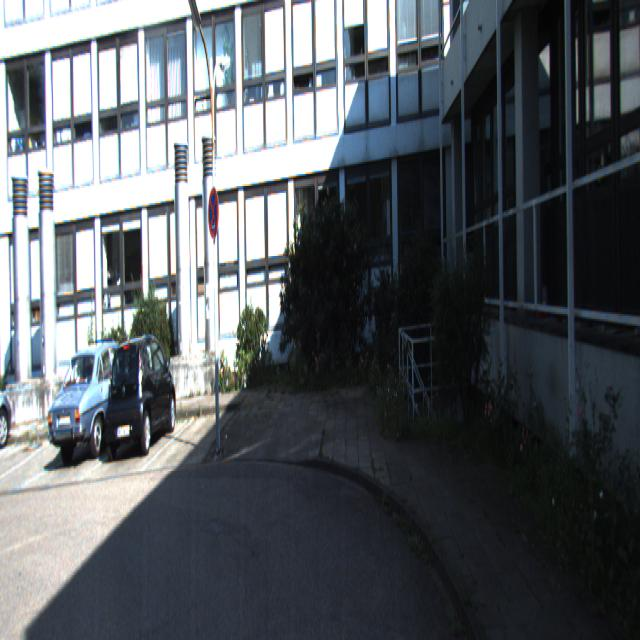Car: (46, 333, 144, 461), (104, 332, 176, 456), (0, 356, 13, 456)
